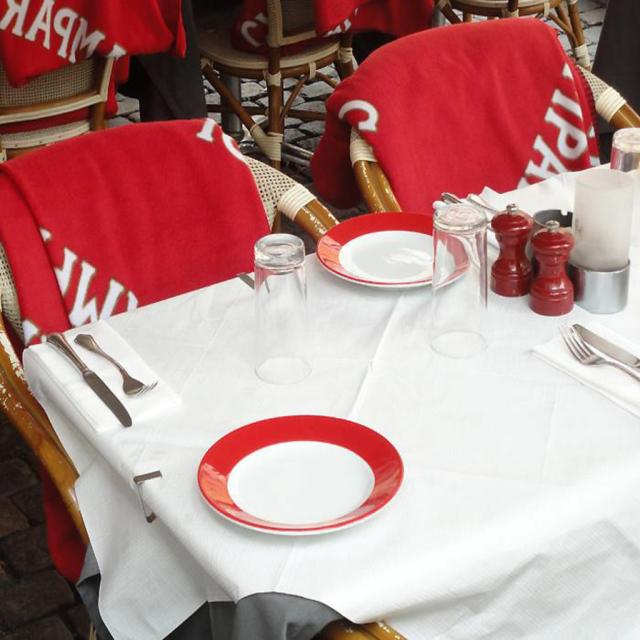non-organic waste: (196, 416, 410, 537), (319, 217, 472, 296)
